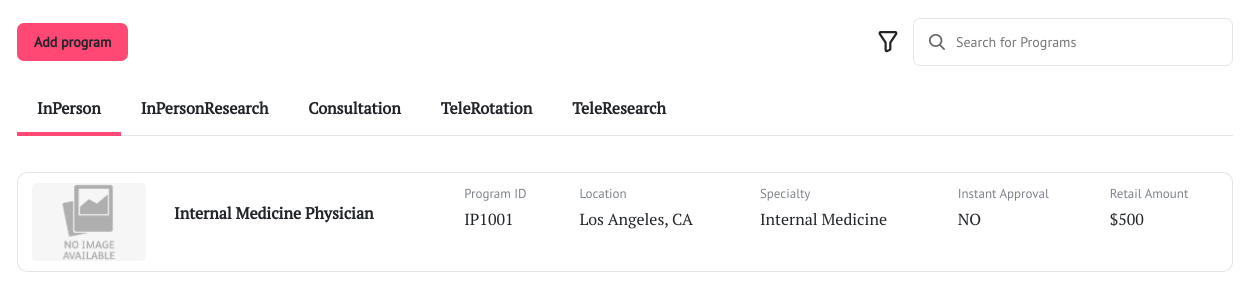
it: ProgramsPage › drives the program-type tab and search server-side
Expected: the text "Program ID" is shown, left=464, top=185, right=527, bottom=202
Note: Consultation tab requests both Consultation variants and shows the empty state.
Click the tab "Consultation" at x=354, y=108, box left=308, top=97, right=401, bottom=119
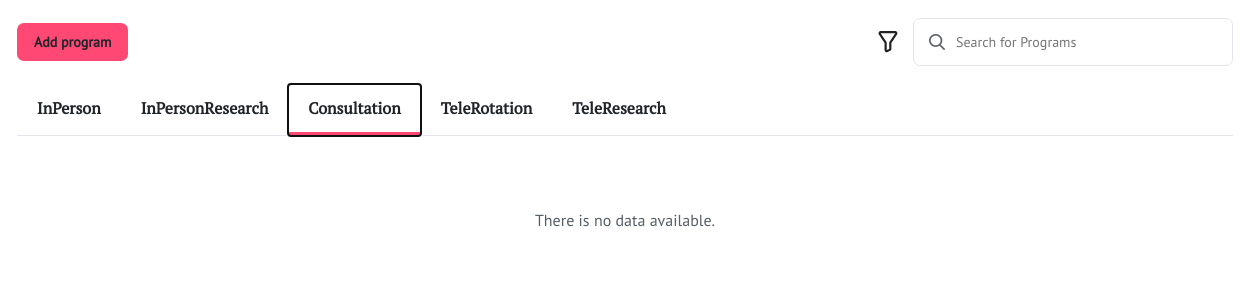
Result: the text "There is no data available." is shown at left=535, top=210, right=715, bottom=230
Click the tab "InPerson" at x=69, y=108, box left=37, top=97, right=101, bottom=119
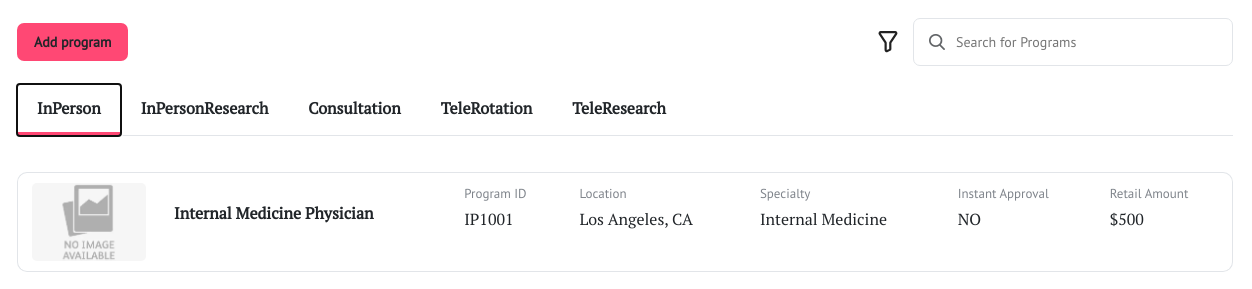
Result: the text "Program ID" is shown at left=464, top=185, right=527, bottom=202
Type "zzzzz" into the field labelled "Search for Programs" at x=1073, y=42, box left=913, top=18, right=1233, bottom=66
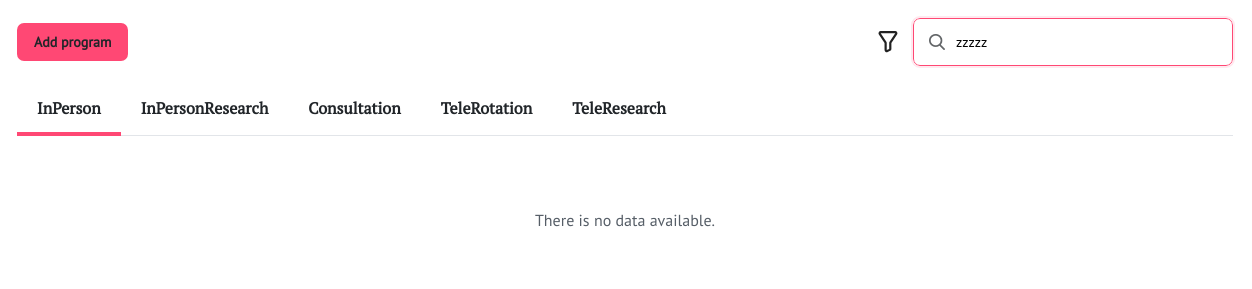
Result: the text "There is no data available." is shown at left=535, top=210, right=715, bottom=230
